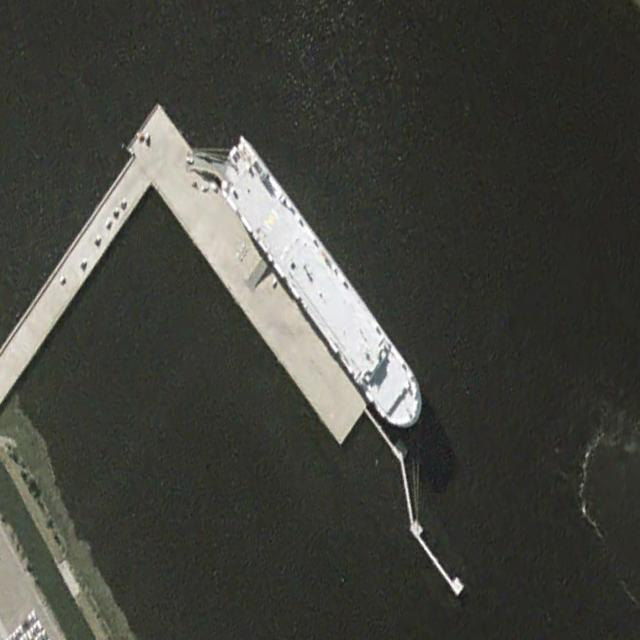RoRo: (210, 130, 433, 444)
